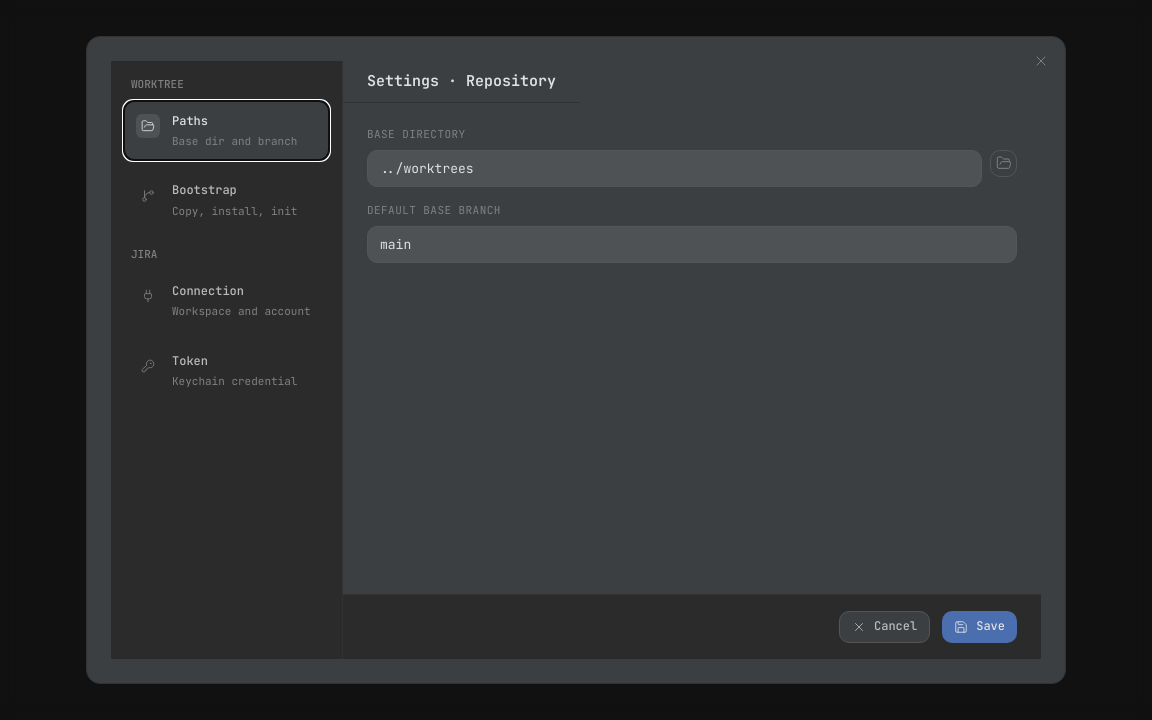
Test: Settings repository modal › shows a specific inline error when required #settings-worktree-install-command is missing
Click the button "Bootstrap Copy, install, init" at (226, 200), box top-left (123, 170), bottom-right (330, 231)
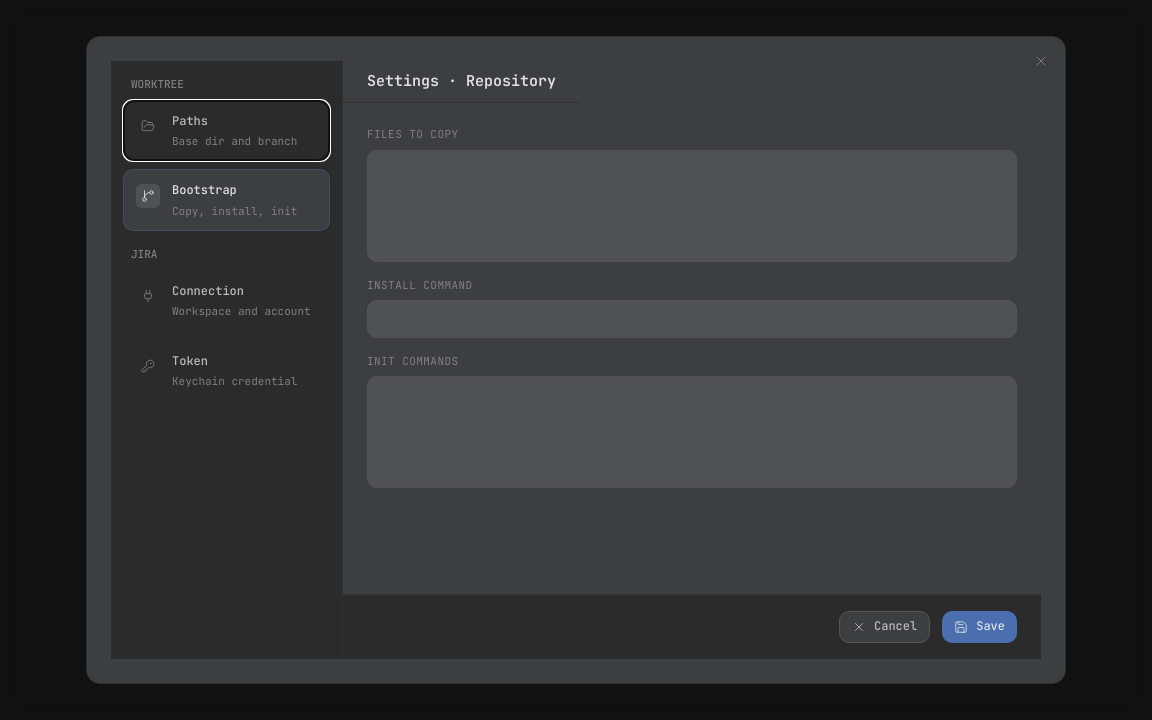
Click the button "Save" at (980, 627), box top-left (942, 611), bottom-right (1017, 643)
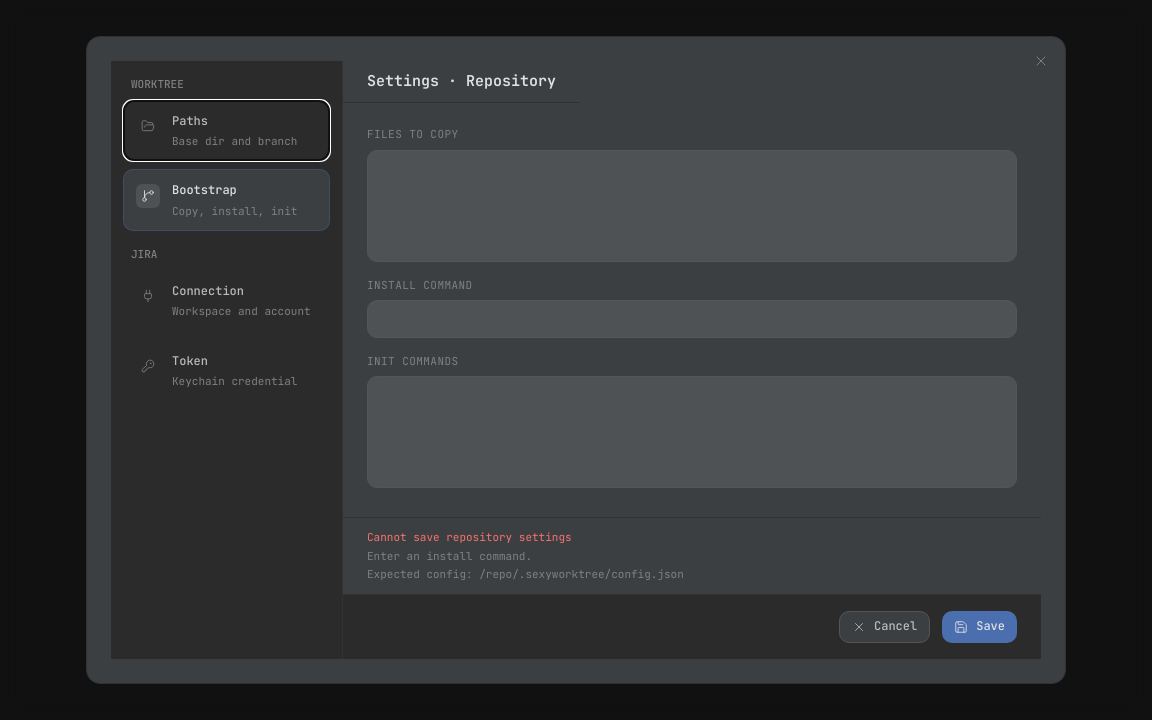
expect the message is shown: met, box top-left (343, 517), bottom-right (1041, 594)
expect the message shows "Cannot save repository settings": met, box top-left (367, 530), bottom-right (572, 544)
expect the message shows "Enter an install command.": met, box top-left (367, 549), bottom-right (532, 563)
